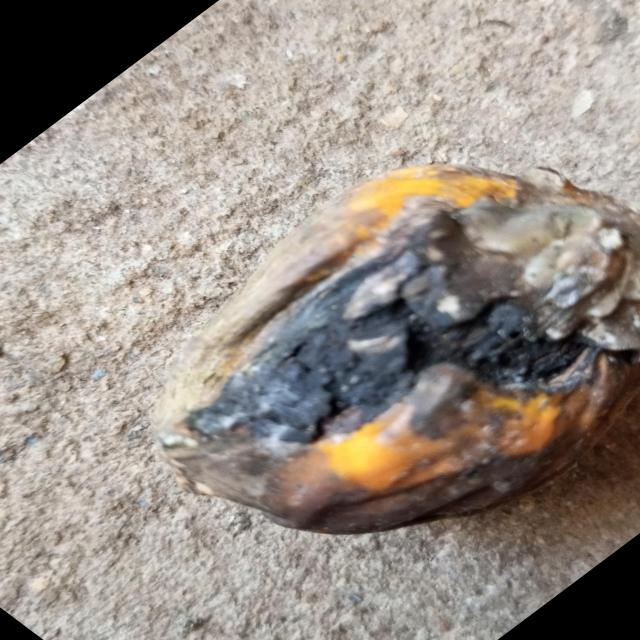damaged: (151, 164, 640, 539)
